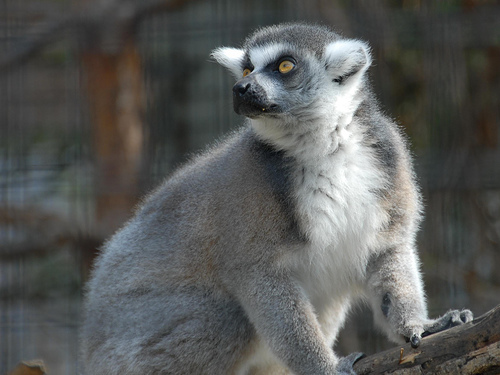cat: (74, 21, 475, 374)
